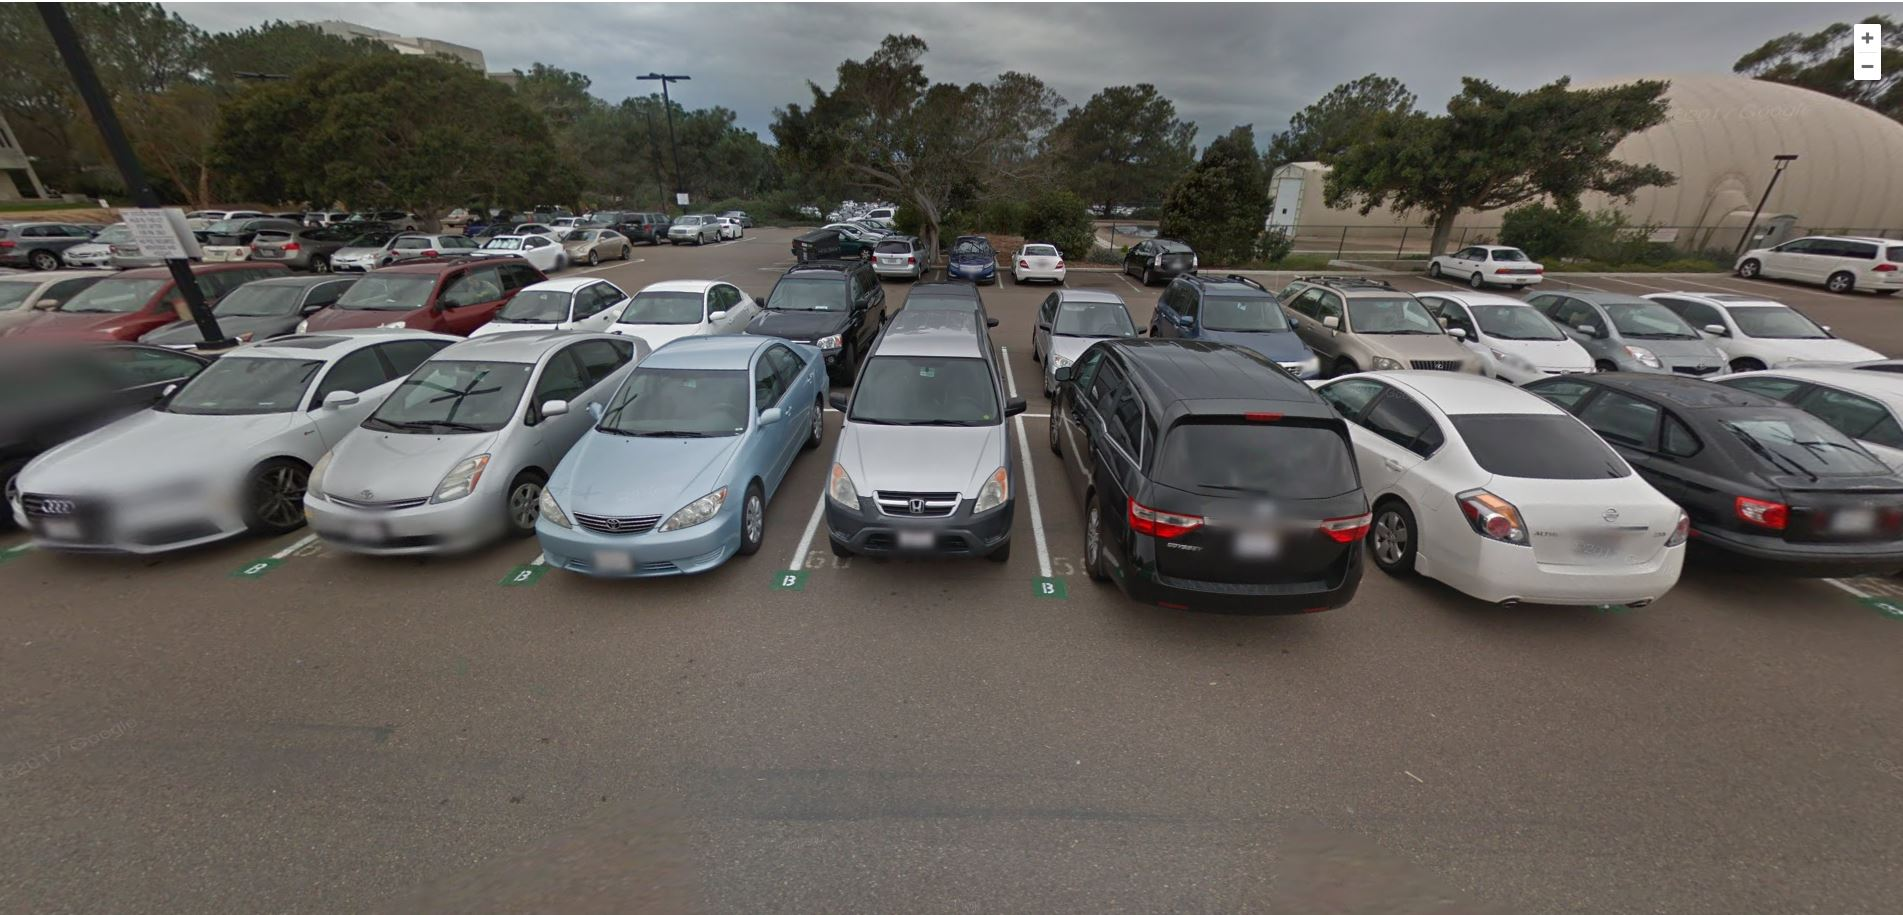car: (1295, 368, 1685, 654), (6, 328, 487, 539), (1038, 340, 1371, 620), (1526, 360, 1895, 599), (305, 328, 652, 561), (523, 331, 837, 580), (823, 307, 1036, 574), (1636, 282, 1903, 388), (1276, 274, 1462, 390), (1149, 262, 1314, 392), (136, 267, 390, 349), (1527, 283, 1725, 382), (1415, 285, 1600, 386), (300, 256, 549, 330), (751, 254, 876, 380), (608, 258, 769, 342), (1731, 221, 1903, 297), (1026, 282, 1141, 391), (482, 269, 631, 339), (1418, 229, 1543, 292), (1113, 225, 1200, 278), (942, 229, 1002, 286), (557, 226, 638, 265), (868, 231, 924, 282), (1009, 240, 1072, 282), (663, 205, 722, 249)
